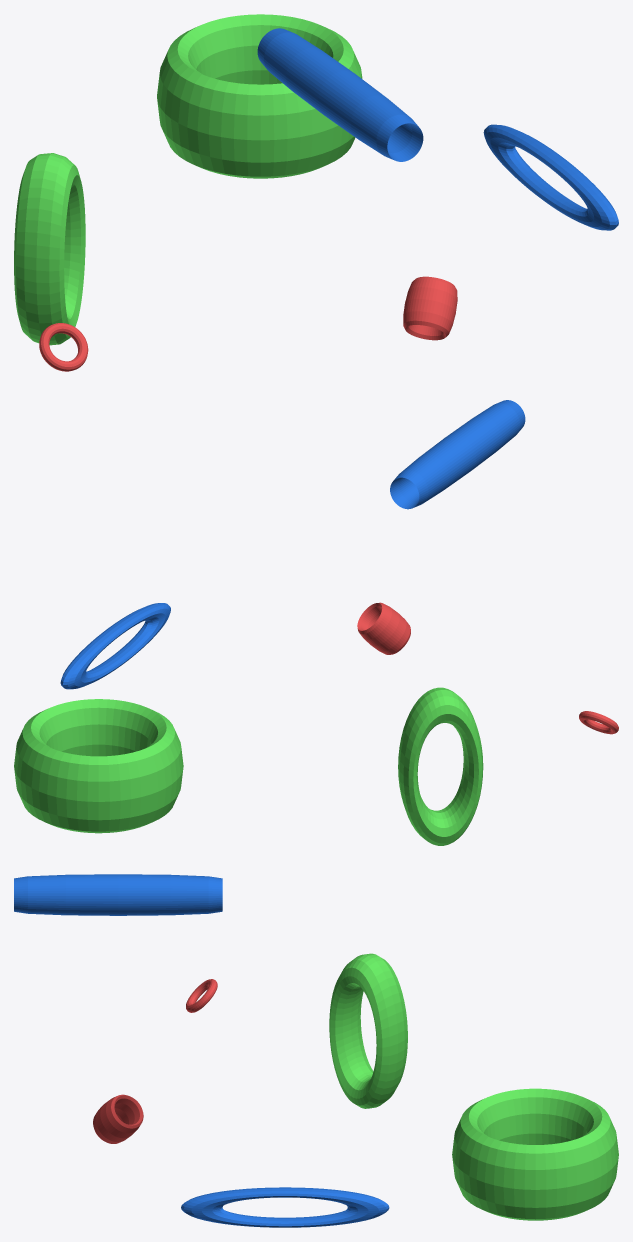
Rendered from tori.gltf.
3 renders of one model, top to bottom at view 1: azimuth 30°, elevation 25°; view 2: azimuth 150°, elevation 25°; view 3: azimuth 270°, elevation 25°, orthographic. The views are drawn at different scales.
Parts seen in each view (by area): view 1: Torus.004, Torus.001, Torus.002, Torus.005, Torus.003, Torus; view 2: Torus.004, Torus.001, Torus.002, Torus.005, Torus.003, Torus; view 3: Torus.004, Torus.001, Torus.002, Torus.005, Torus.003, Torus.
Part boxes in pixels (x1,y1,x2,y2): Torus.004: (157, 14, 362, 178); Torus.001: (14, 153, 85, 345); Torus.002: (257, 28, 423, 161); Torus.005: (483, 124, 618, 230); Torus.003: (403, 276, 457, 340); Torus: (39, 323, 88, 371); Torus.004: (14, 699, 183, 833); Torus.001: (398, 687, 483, 845); Torus.002: (390, 400, 525, 509); Torus.005: (60, 603, 170, 689); Torus.003: (357, 602, 410, 654); Torus: (579, 711, 618, 734); Torus.004: (452, 1088, 618, 1220); Torus.001: (329, 953, 407, 1108); Torus.002: (14, 874, 222, 915); Torus.005: (181, 1187, 389, 1227); Torus.003: (93, 1094, 143, 1143); Torus: (186, 979, 217, 1012).
Size of the model in its own units: 12.7 by 7.5 by 14.5.
